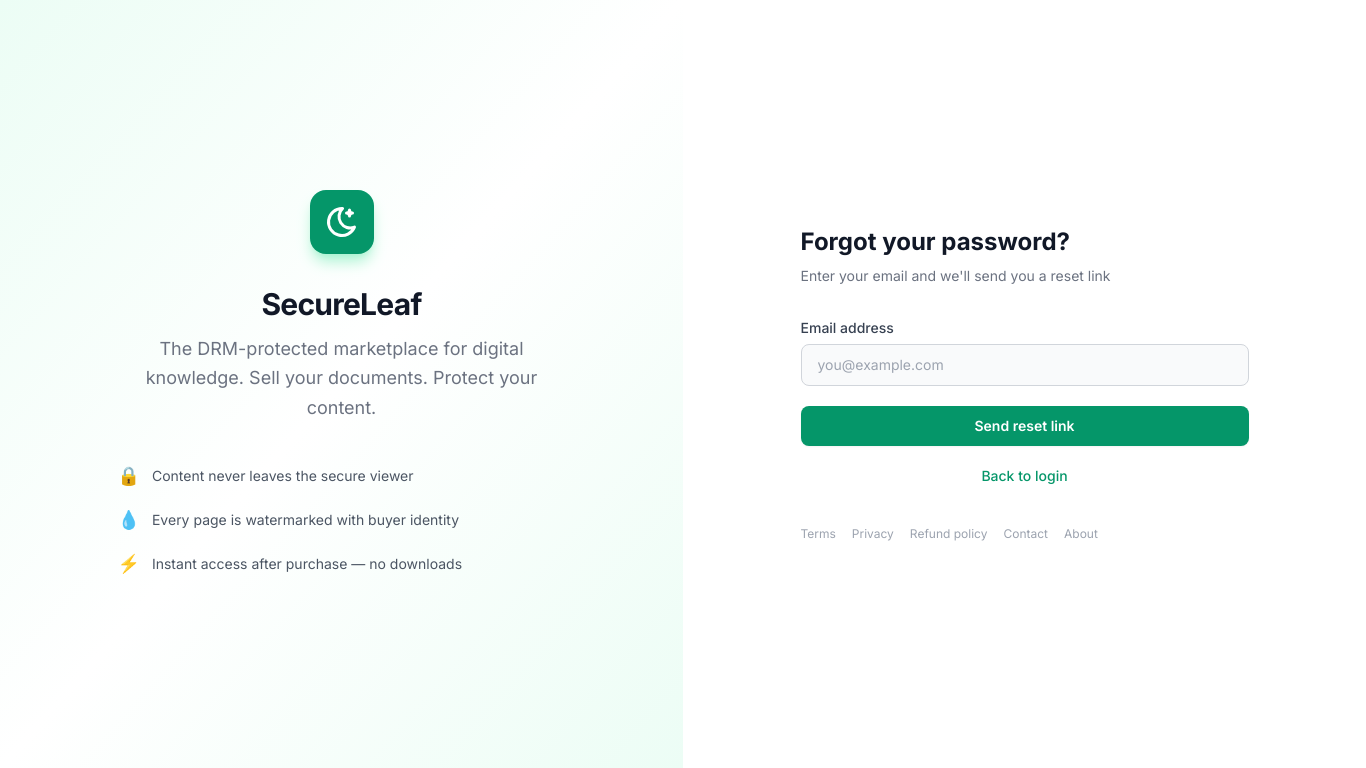
Test case: ForgotPasswordPage › shows the exact same generic message even when the request errors
The width and height of the screenshot is (1366, 768).
Type "unknown@example.com" into the field labelled "Email address" at (1024, 365), box [800, 344, 1248, 386]
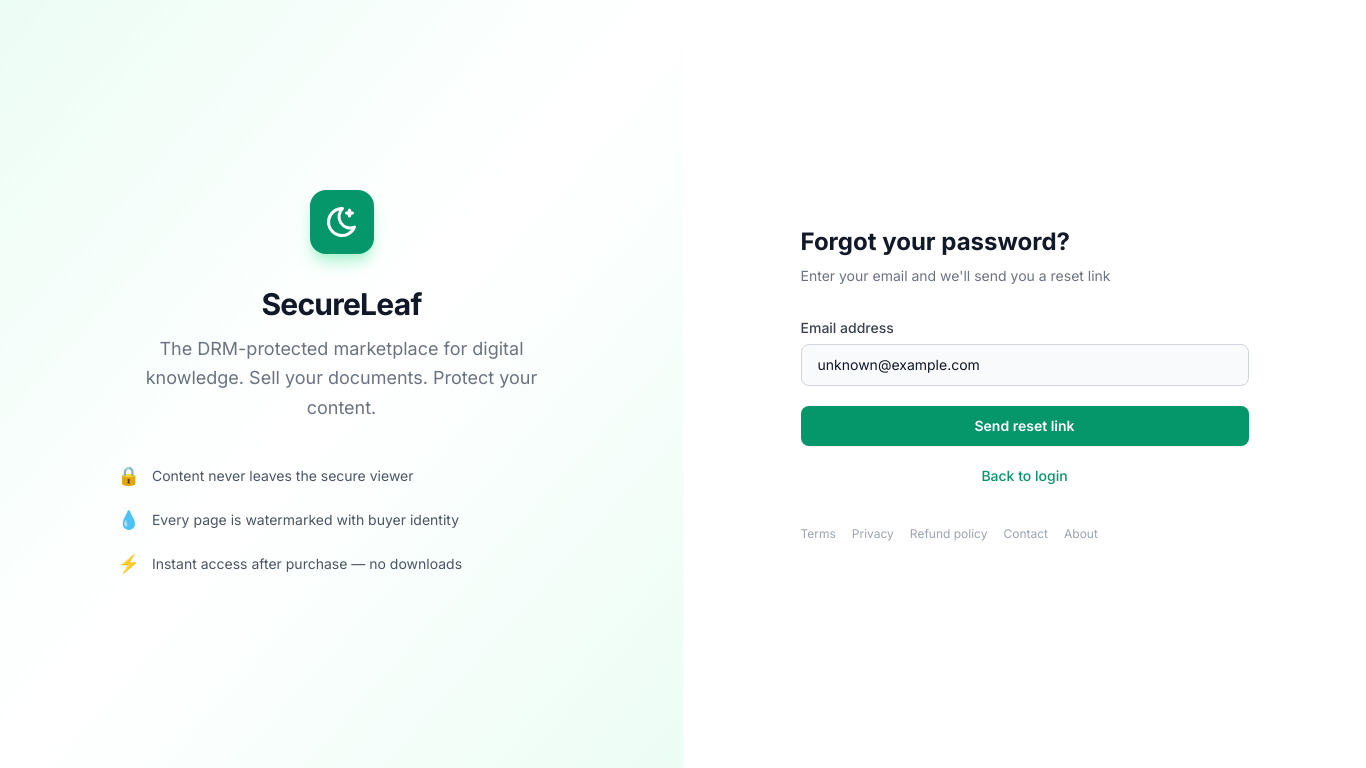
Click the button "Send reset link" at (1024, 426), box [800, 406, 1248, 446]
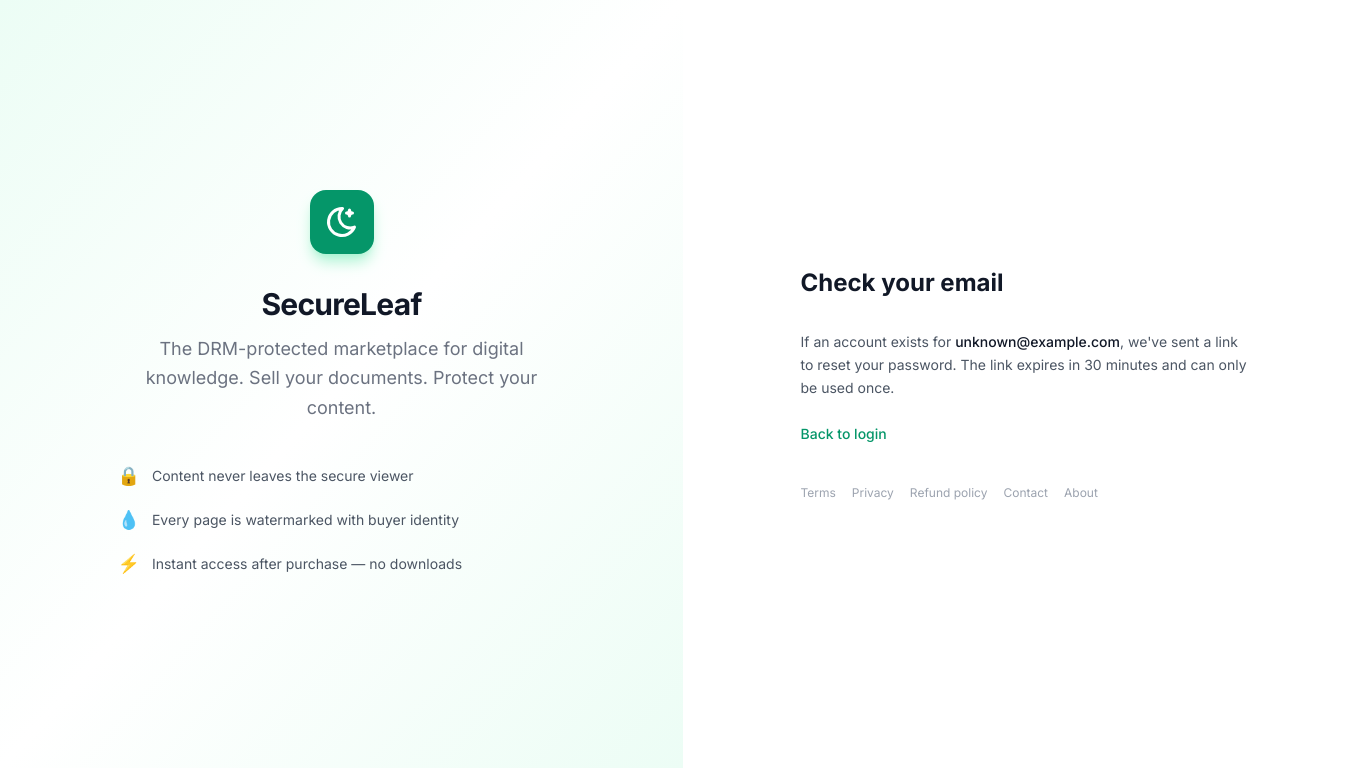
Result: the text "If an account exists for" is shown at [800, 333, 955, 350]
